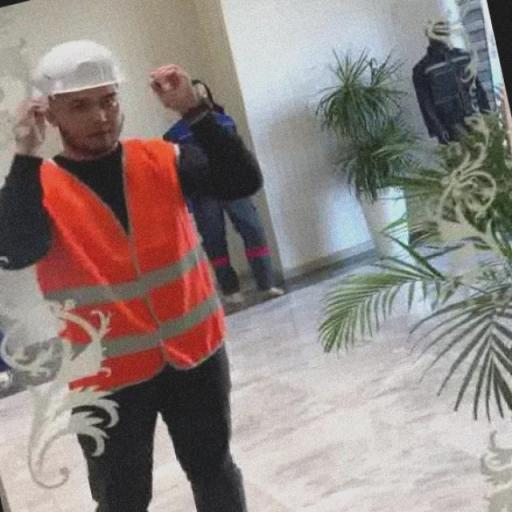Person: (1, 21, 287, 512)
helmet: (30, 43, 128, 95)
none: (146, 56, 218, 121), (4, 91, 68, 150)
vest: (30, 126, 228, 387)
